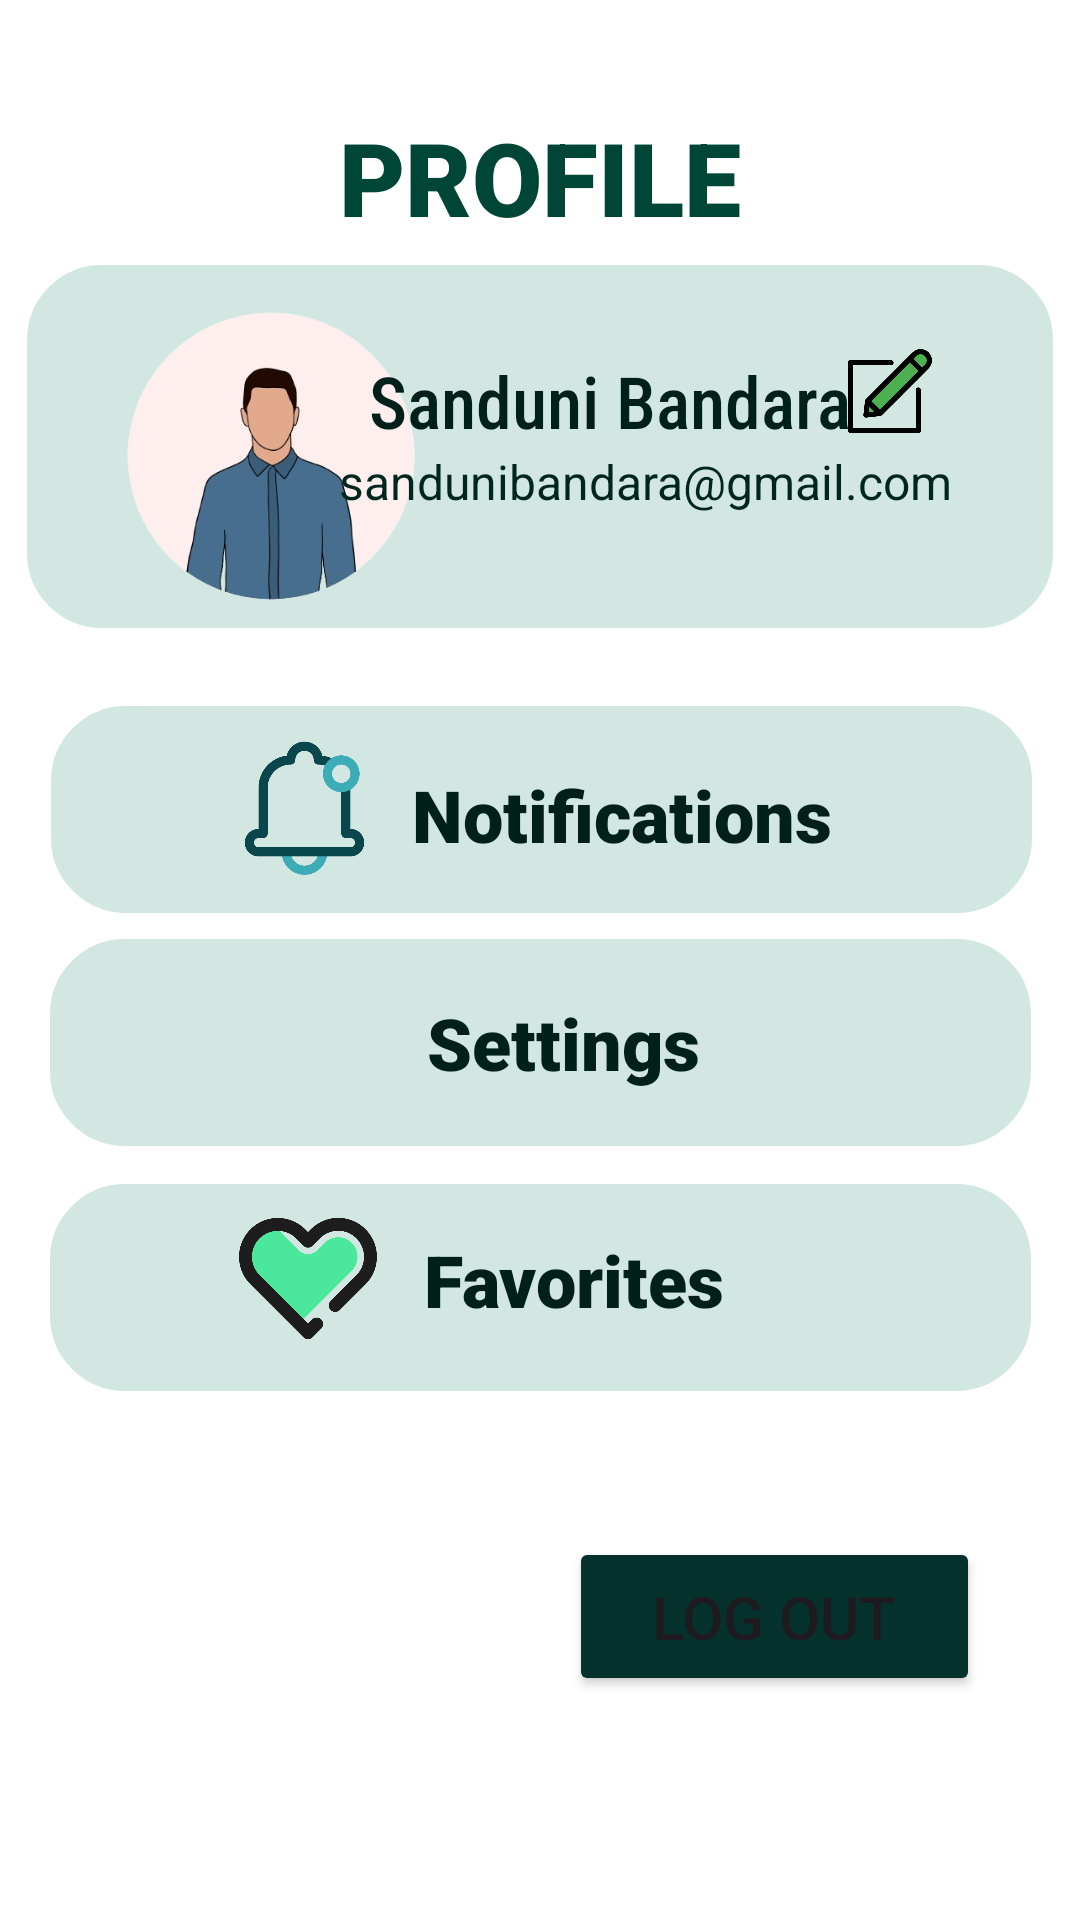

Where to tap for icons on this 1080 × 1920 app screen, as (x=x, y=y):
writing: (x=897, y=383)
